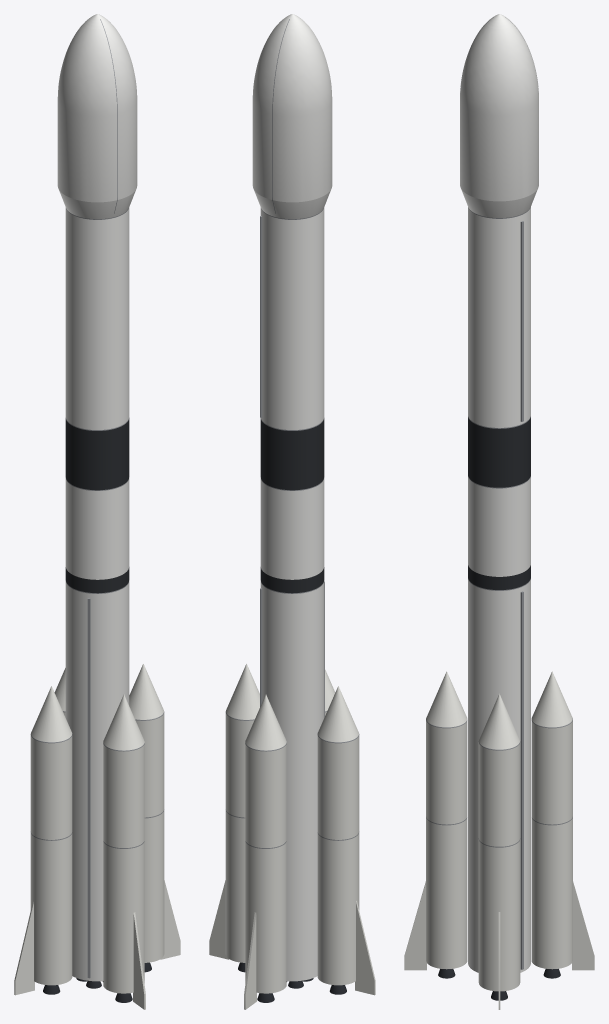
The picture shows the model from 3 angles, left to right: view 1: azimuth 30°, elevation 25°; view 2: azimuth 150°, elevation 25°; view 3: azimuth 270°, elevation 25°; orthographic projection.
Parts seen in each view (by area): view 1: lm3b; view 2: lm3b; view 3: lm3b.
Boxes of the visible parts, left/top/right/bottom form: lm3b: left=14, top=14, right=180, bottom=1009; lm3b: left=209, top=14, right=375, bottom=1009; lm3b: left=404, top=14, right=594, bottom=1009.
Bounding box in the file's own units: 10.1 × 56.3 × 10.1.
1 material, 1 textured.
